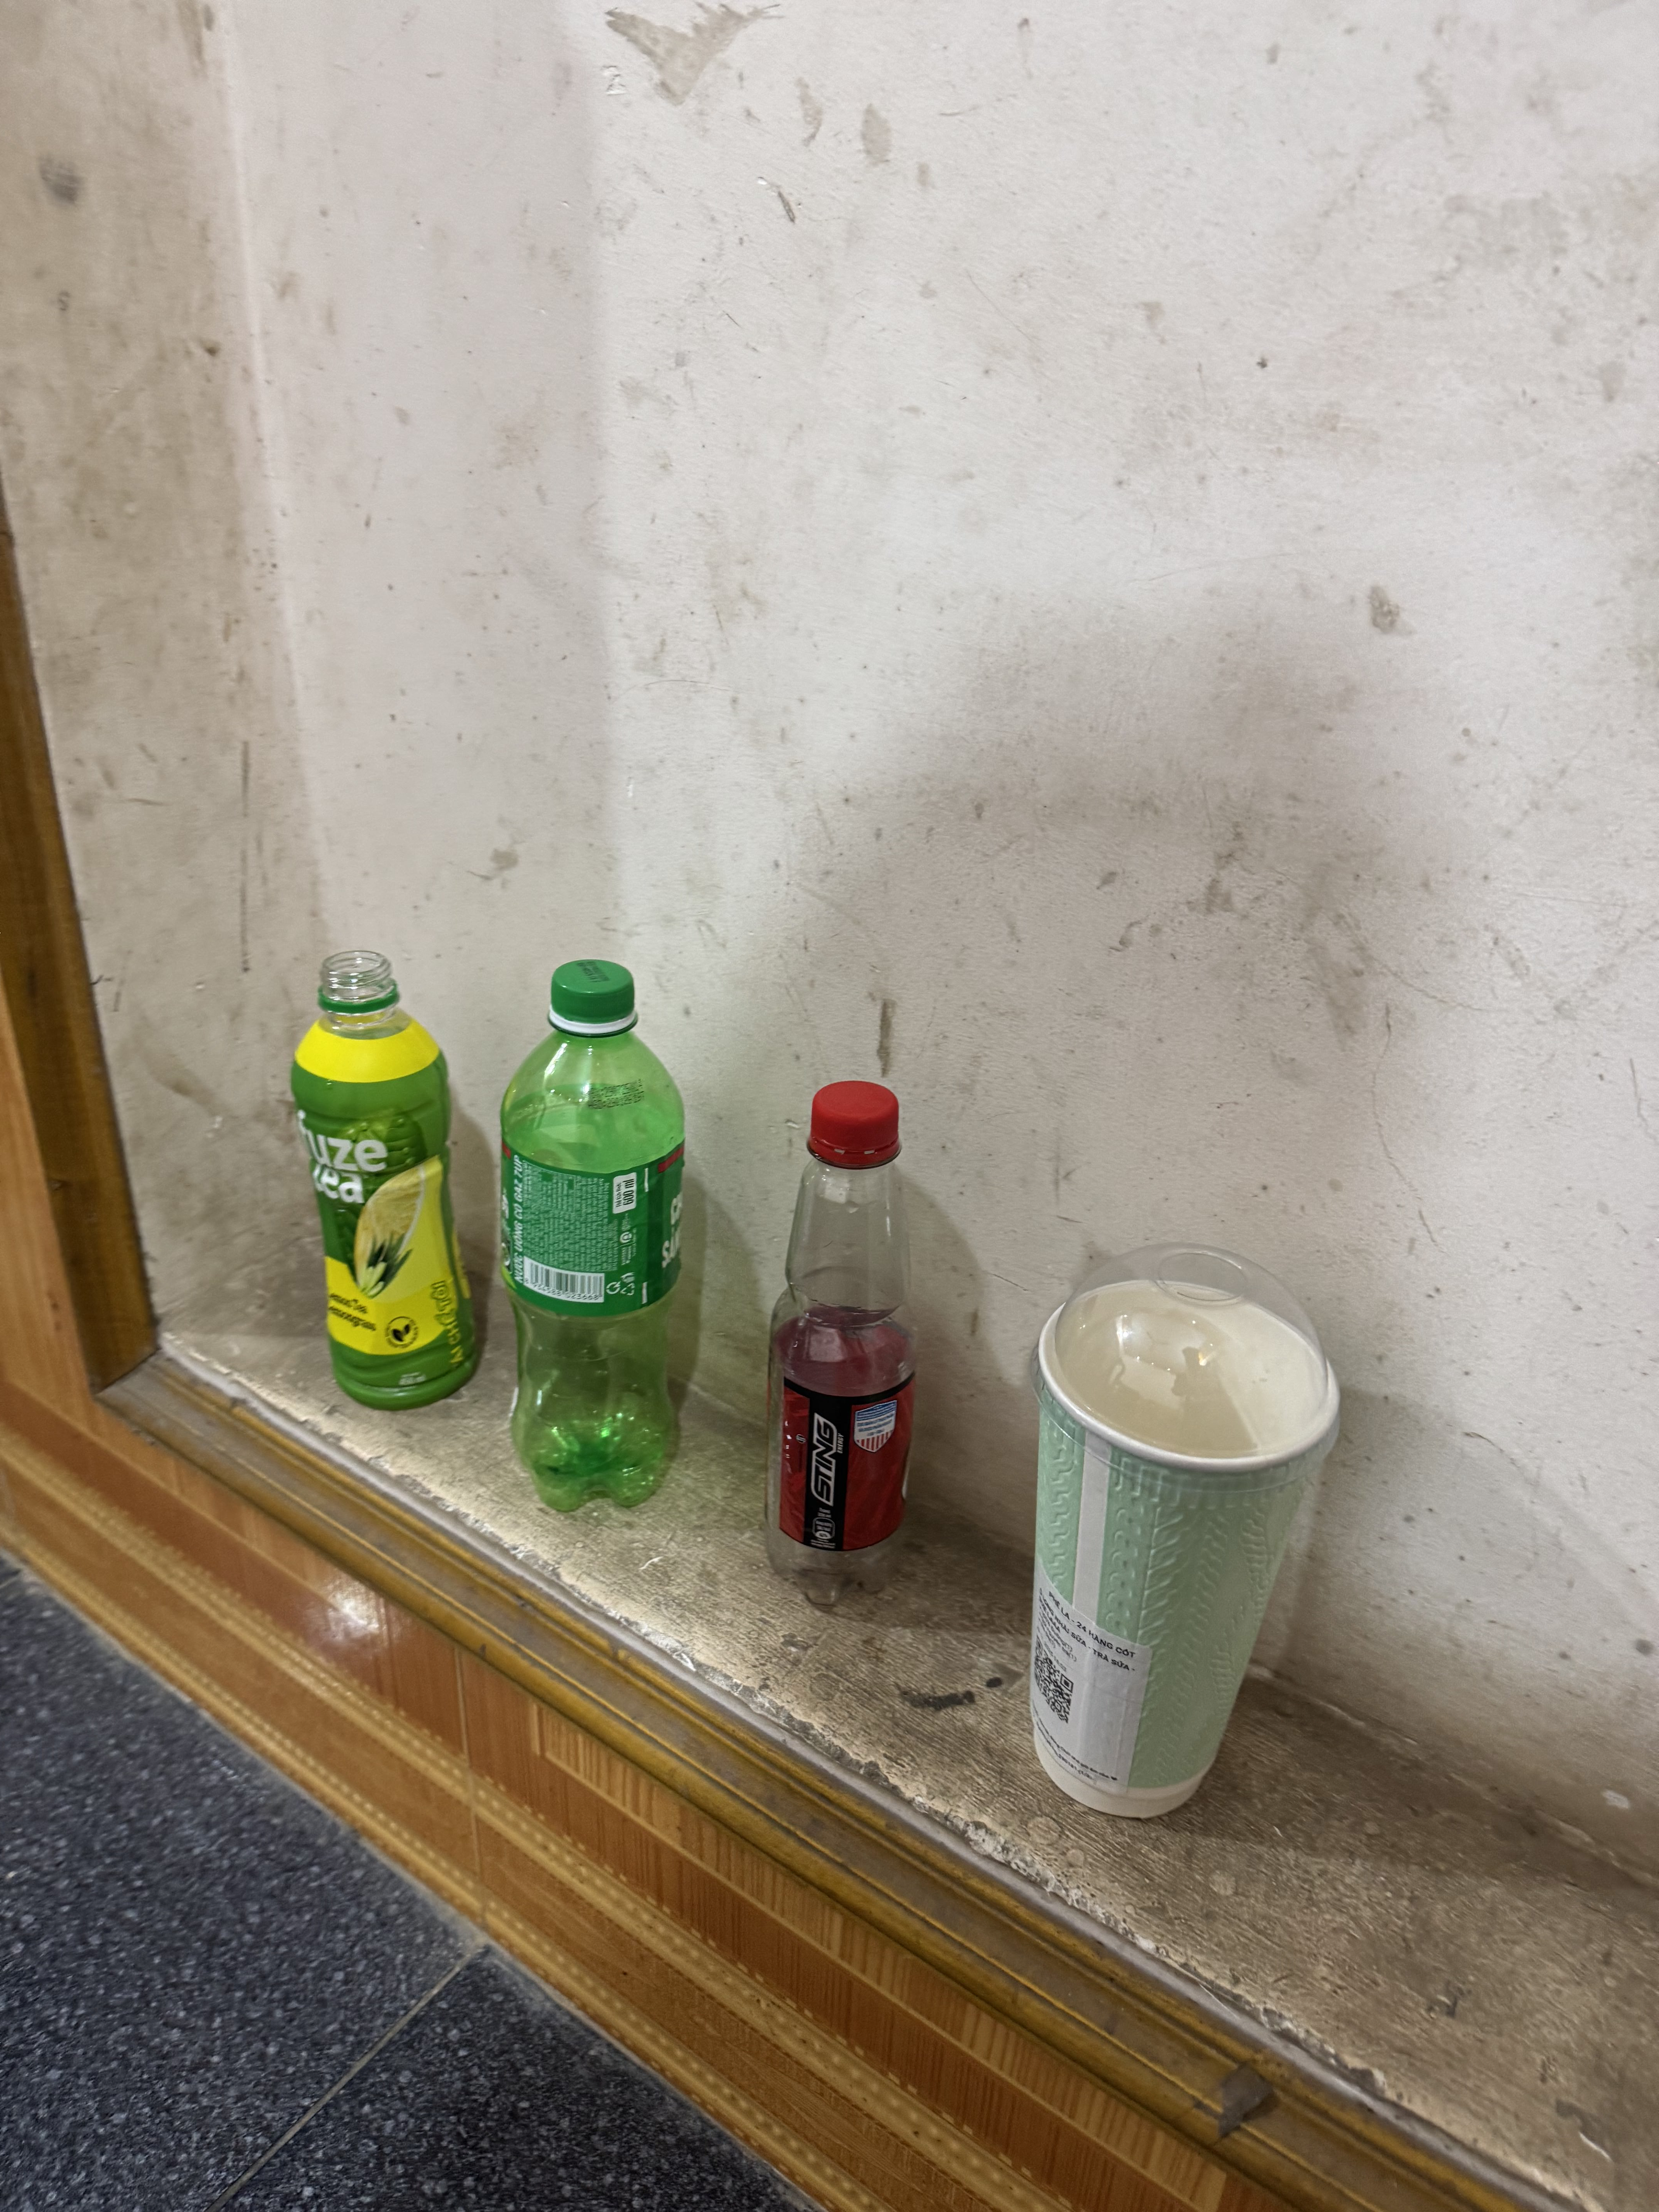2: (978, 1219, 1366, 1864)
bottle: (467, 944, 716, 1543), (725, 1062, 951, 1629), (289, 920, 495, 1430)
